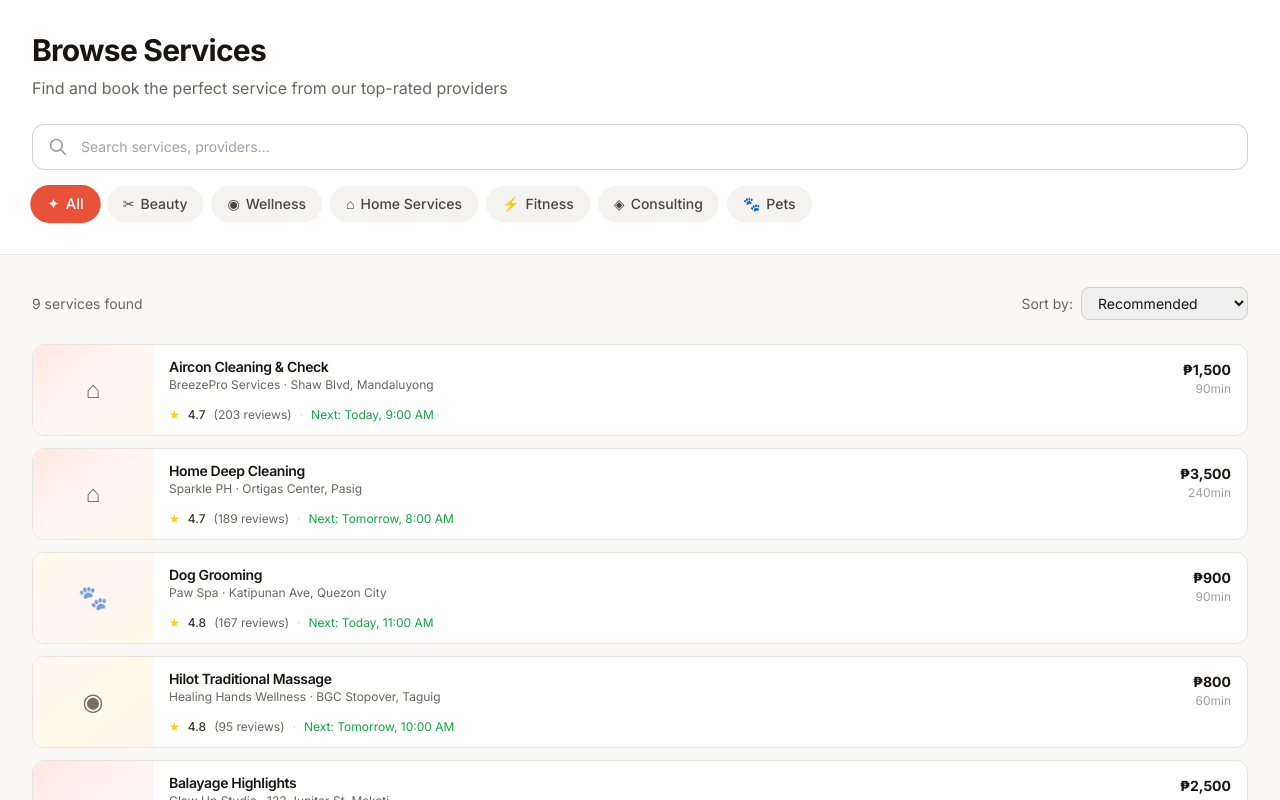
Test: Services Page › search filters services
The image size is (1280, 800).
Expected: the heading "Balayage Highlights" is shown, [169,774,296,791]
Type "Hilot" into the field with placeholder "Search services, providers...".
click(640, 147); type("Hilot")  # box [32,124,1248,170]
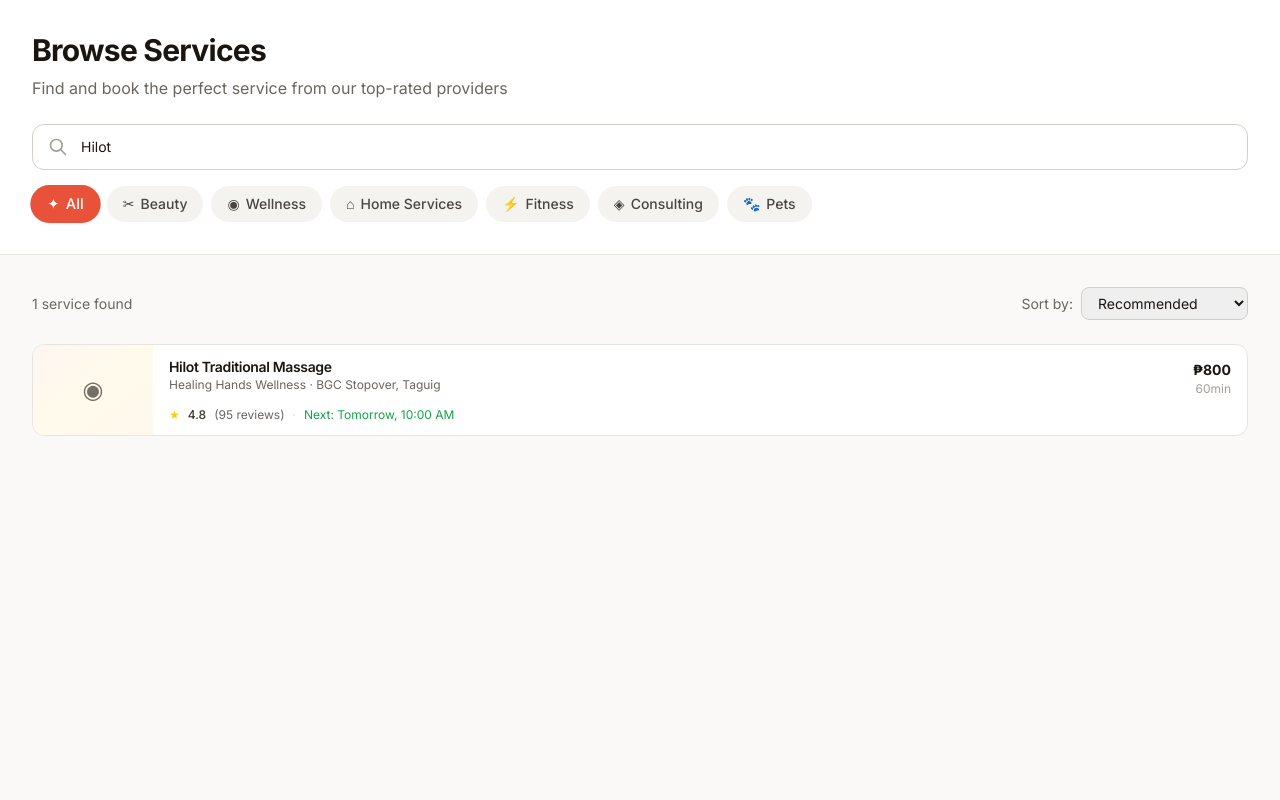
Expected: the heading "Hilot Traditional Massage" is shown, [169,358,332,375]
Now the link "Balayage Highlights" is gone
